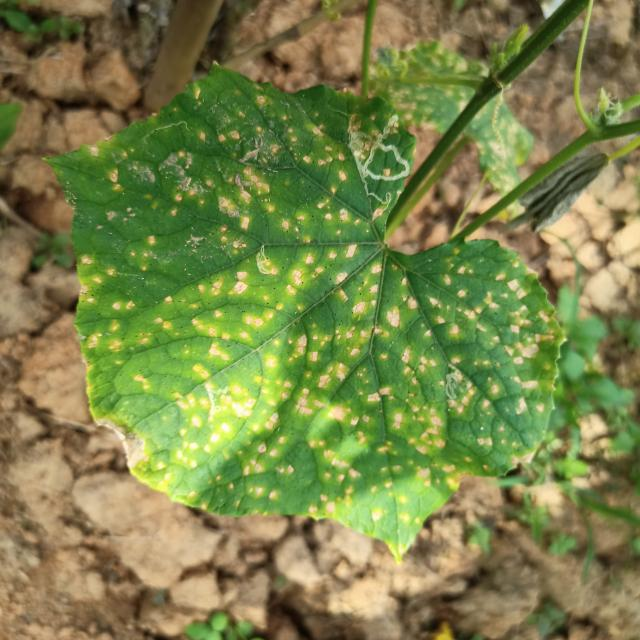disease_cucumber: (107, 102, 535, 518)
